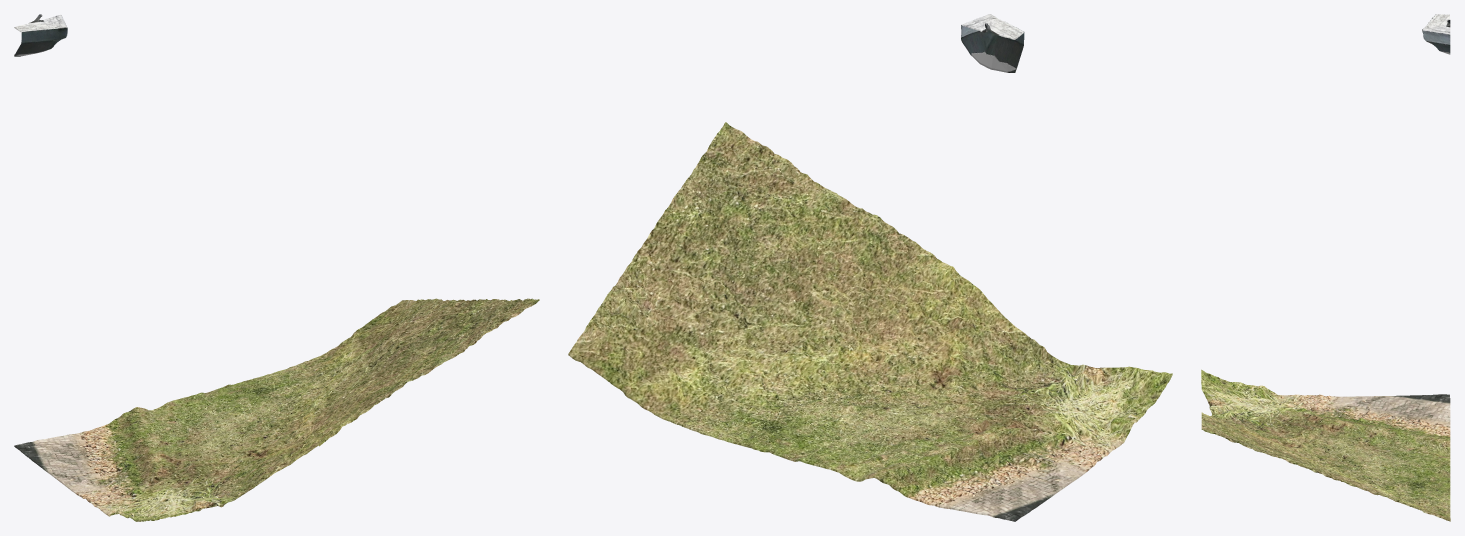
3 views of the same model, side by side, from view 1: azimuth 30°, elevation 25°; view 2: azimuth 150°, elevation 25°; view 3: azimuth 270°, elevation 25° (orthographic). The views are drawn at different scales.
Parts seen in each view (by area): view 1: node_196; view 2: node_196; view 3: node_196.
Boxes of the visible parts, x1,y1,x2,y2 form: node_196: [14, 14, 539, 521]; node_196: [568, 14, 1172, 521]; node_196: [1201, 14, 1450, 521].
Bounding box in the file's own units: 8.98 × 9.5 × 5.49.
Materials: 1 (1 with a texture image).
